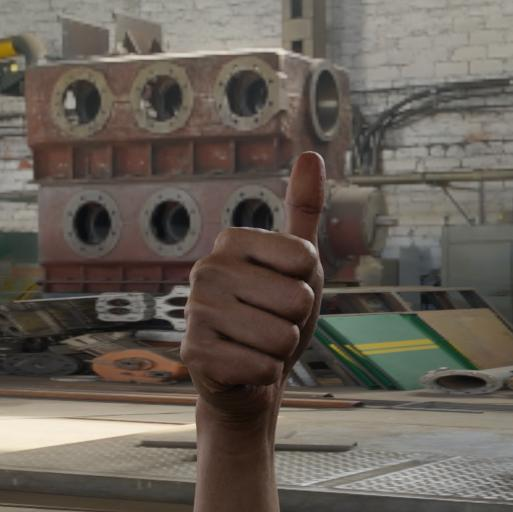thumbs-up: (179, 128, 328, 417)
